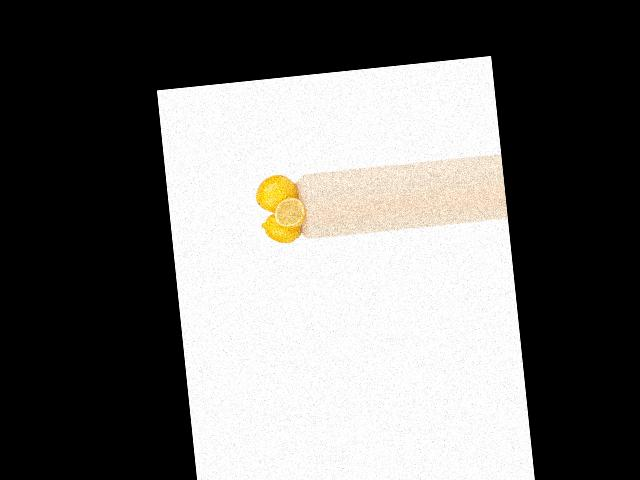lemon: (259, 210, 306, 247)
